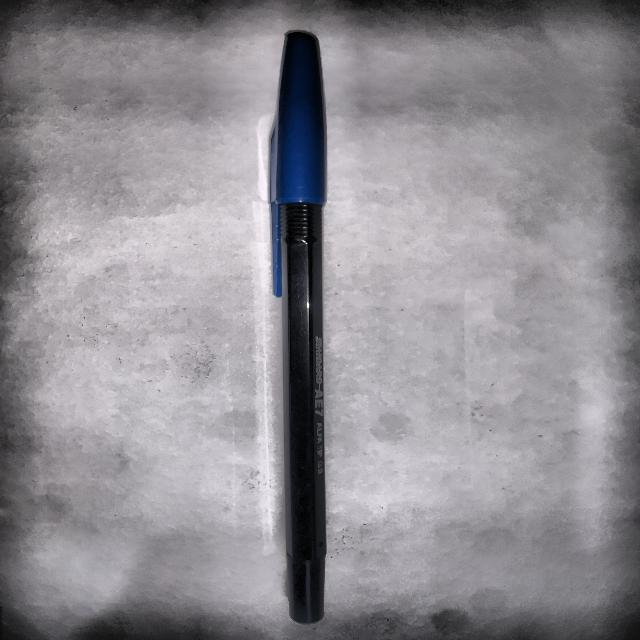Pulpen: (241, 26, 369, 634)
